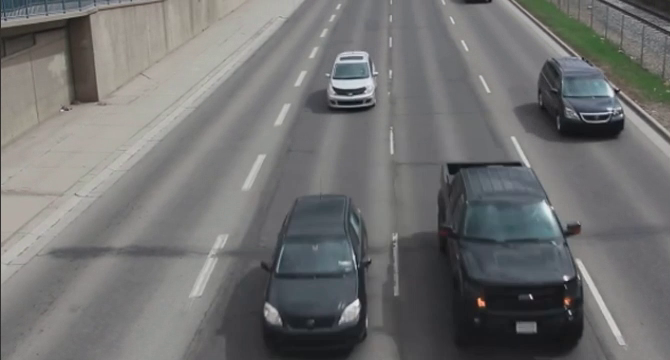car: (436, 159, 591, 351), (261, 183, 372, 349), (530, 54, 631, 147), (323, 47, 380, 116)
